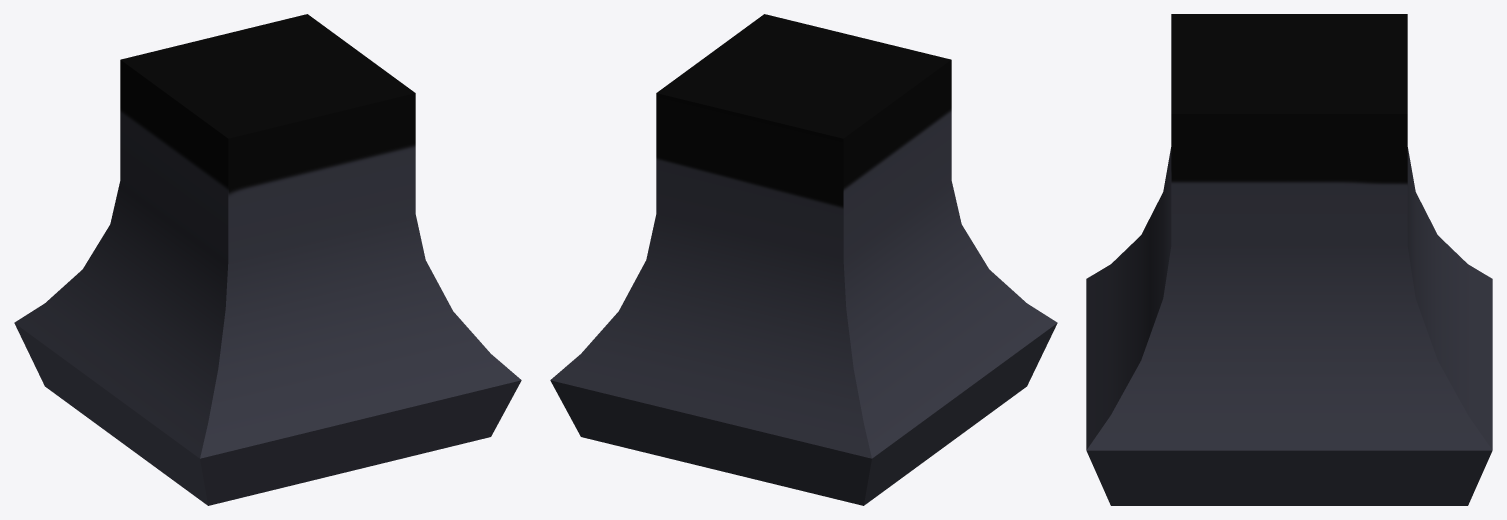
Rendered from Shoot.glb.
3 views of the same model, side by side, from view 1: azimuth 30°, elevation 25°; view 2: azimuth 150°, elevation 25°; view 3: azimuth 270°, elevation 25° (orthographic). The views are drawn at different scales.
Visible parts, largest first — view 1: Shoot.001; view 2: Shoot.001; view 3: Shoot.001.
Part boxes in pixels (x1,y1,x2,y2): Shoot.001: (14,14,521,505); Shoot.001: (550,14,1057,505); Shoot.001: (1086,14,1492,505).
Size of the model in its own units: 0.7499 by 0.7467 by 0.7499.
Materials: 1 (1 with a texture image).
